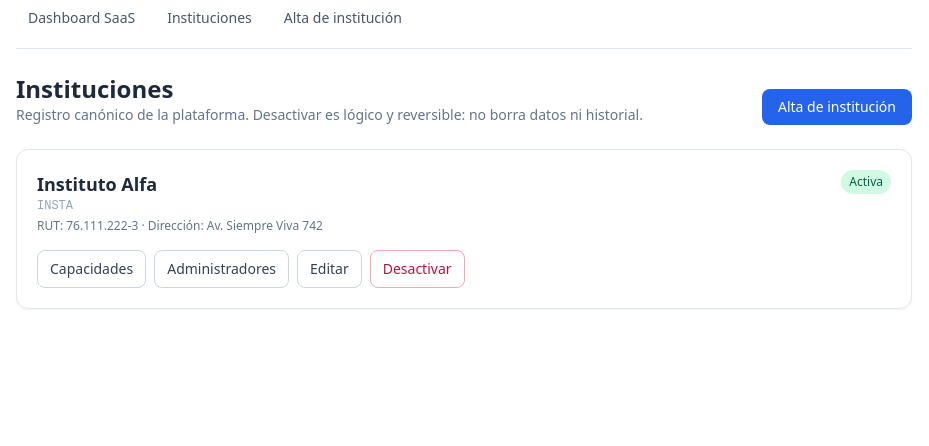
Test: InstitucionesComponent › AC-2: desactivar exige confirmación y persiste el estado con PATCH
Click the button "Desactivar" at (417, 269), box [370,250,464,288]
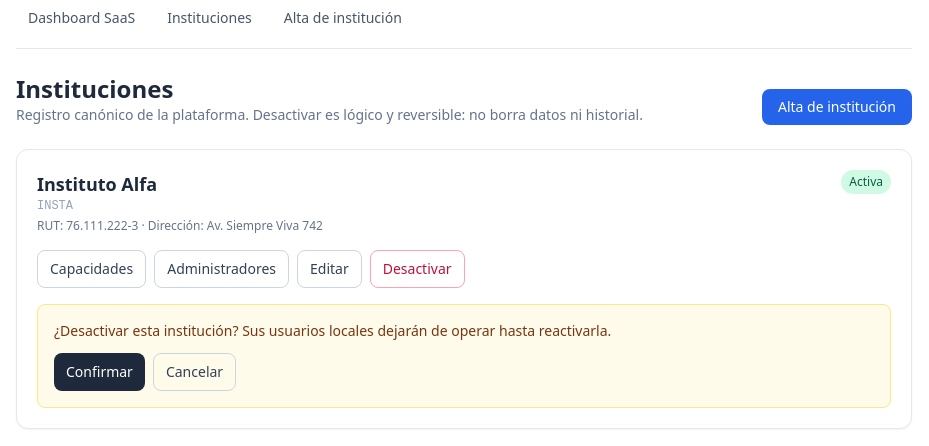
Check: the text "¿Desactivar esta institución?" is shown, box [54,321,611,340]
Click the button "Confirmar" at (99, 372), box [54,353,145,391]
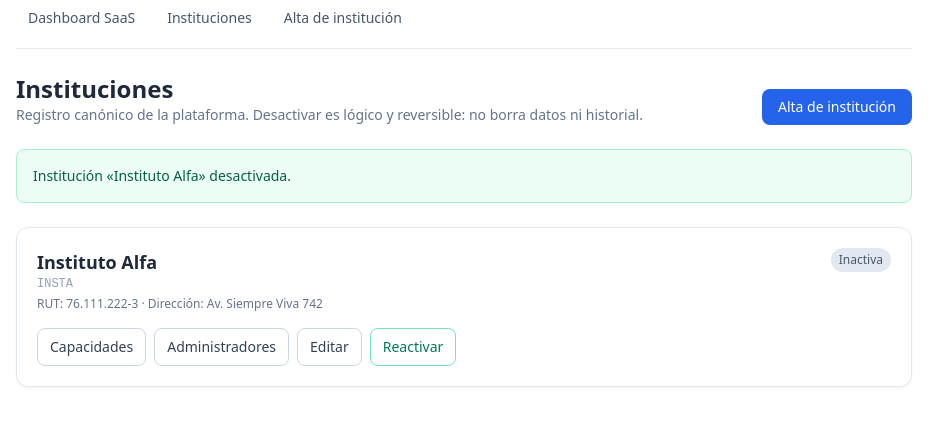
Check: the text "Inactiva" is shown, box [831,248,891,272]
